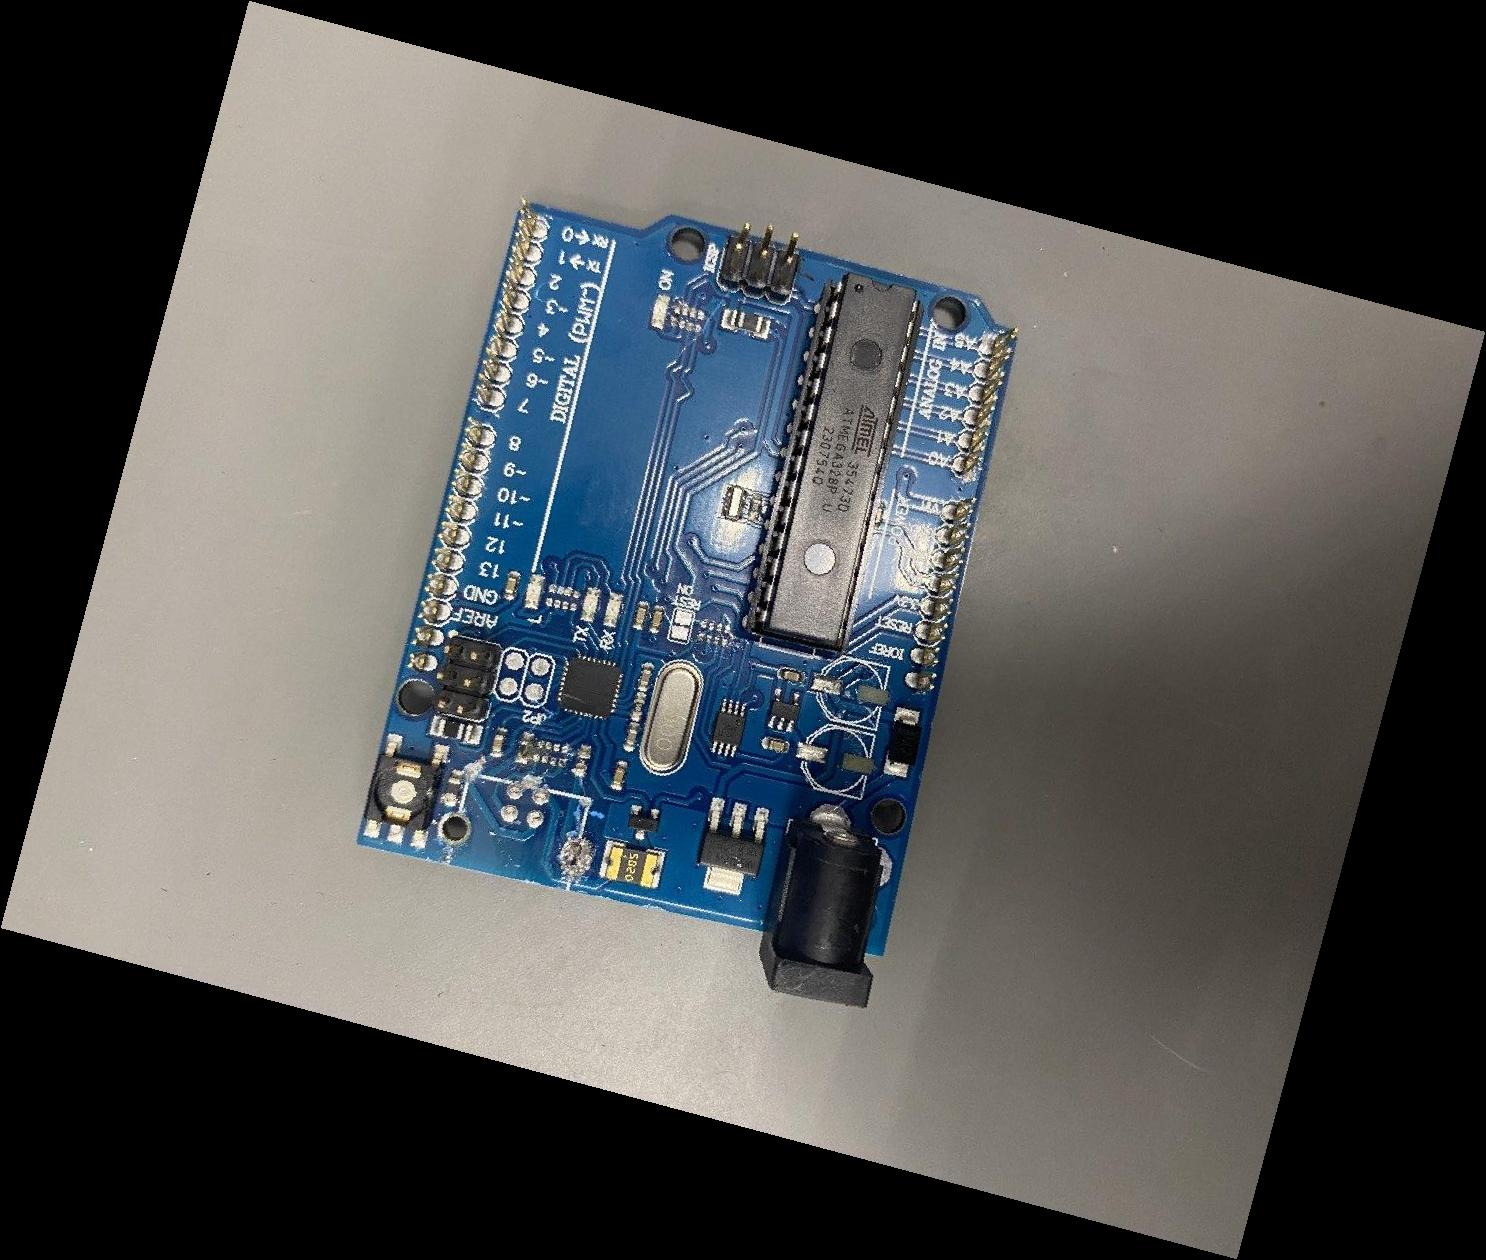ATmega328 chip: (744, 270, 926, 657)
Arduino board: (356, 197, 1021, 1010)
